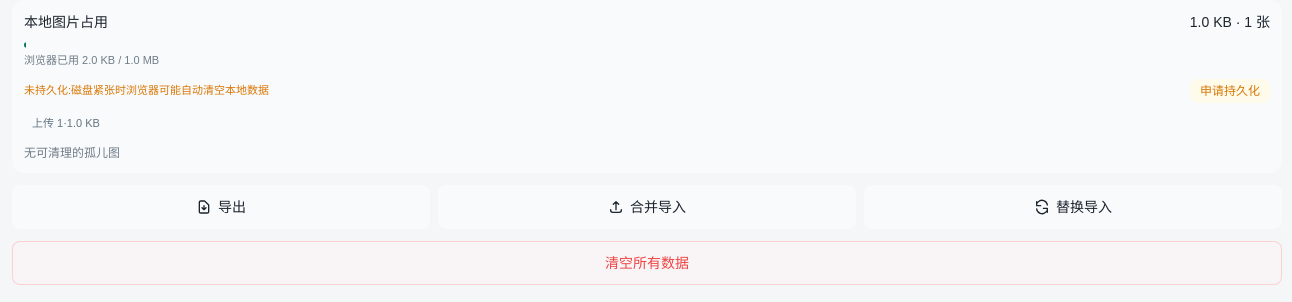
Test case: DataManagementSection 持久化徽标(H4) › 申请被浏览器拒绝时给出显式反馈而非静默(按钮变「重试」)
This screenshot has width=1292, height=302.
Click the button "申请持久化": (1230,90) [1190, 78, 1270, 102]
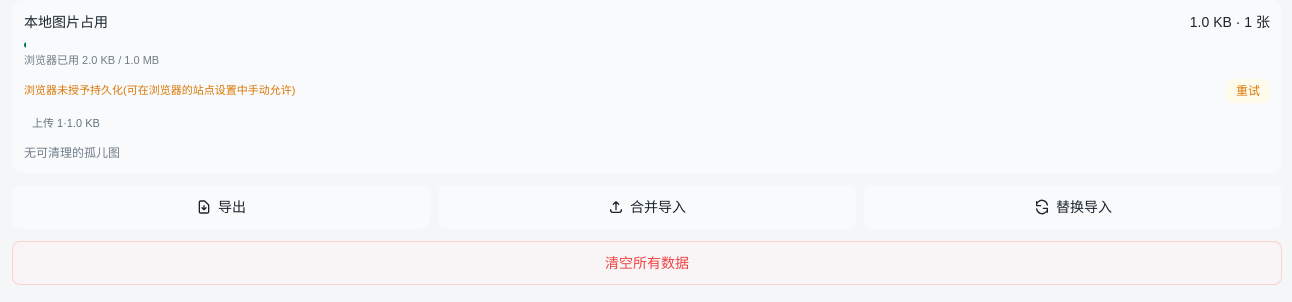
Now the text "浏览器未授予持久化(可在浏览器的站点设置中手动允许)" is shown, box [24, 82, 295, 99]
Now the button "重试" is shown, box [1226, 78, 1270, 102]
